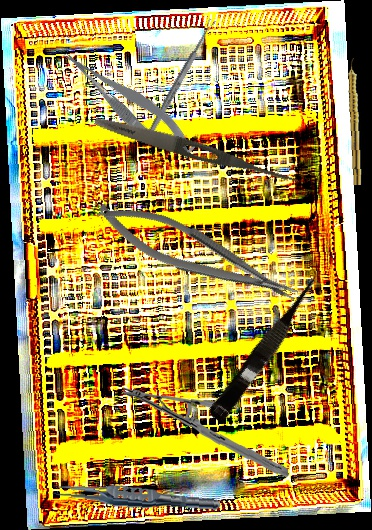Dressing Forceps: (92, 112, 301, 189)
Handpiece: (346, 57, 365, 186)
Micro Scissor: (206, 267, 332, 427), (57, 33, 202, 172)
Needle Holder: (90, 186, 304, 323), (122, 379, 289, 484)
Surgical Spoon: (147, 18, 217, 134)
Tissue Forceps: (48, 480, 222, 514)
